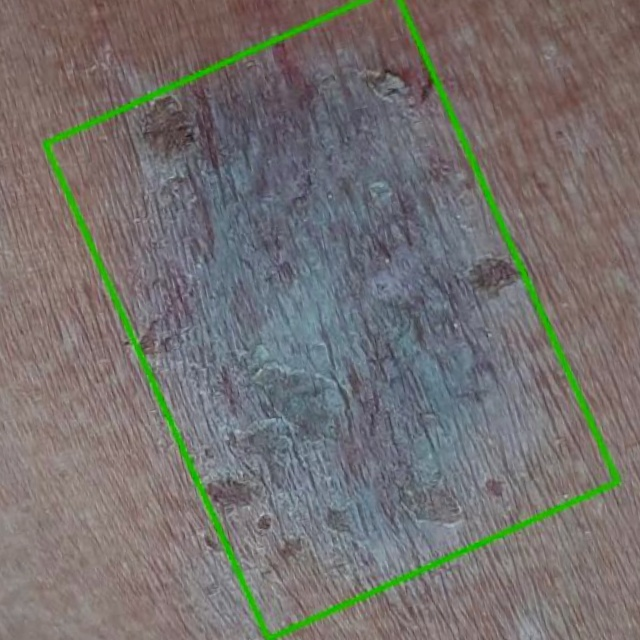Seborrheic Dermatitis: (45, 0, 618, 639)
